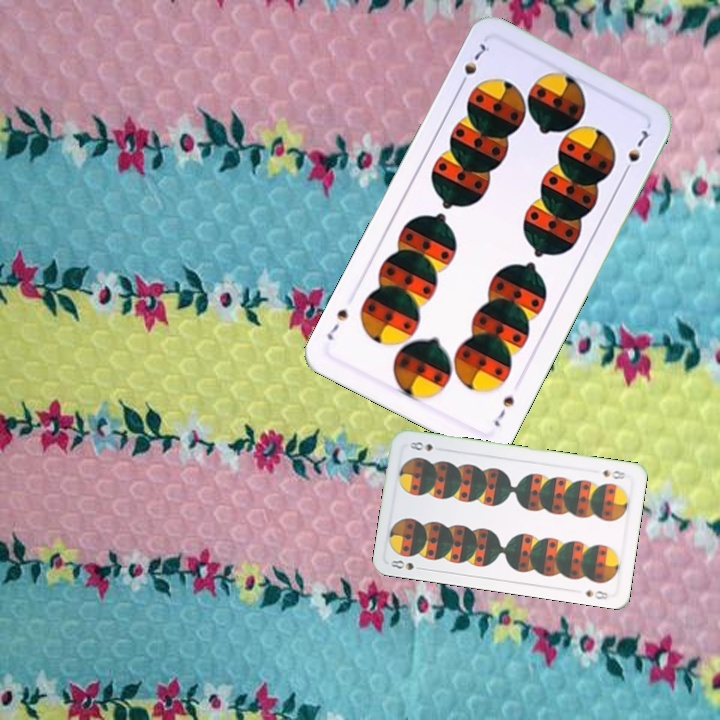S7: (454, 39, 493, 91), (490, 392, 517, 430)
S8: (387, 556, 427, 574), (599, 466, 630, 482)
